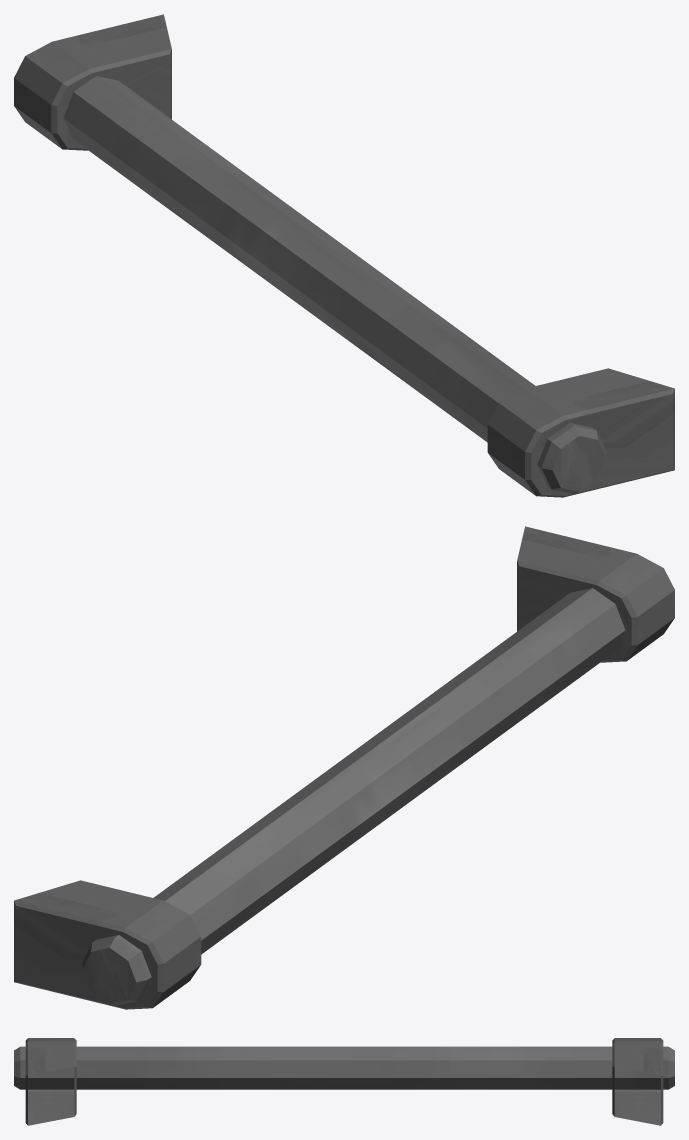
File: strProp_41.glb
3 views of the same model, one above another, from view 1: azimuth 30°, elevation 25°; view 2: azimuth 150°, elevation 25°; view 3: azimuth 270°, elevation 25° (orthographic). The views are drawn at different scales.
Parts seen in each view (by area): view 1: geometry_0; view 2: geometry_0; view 3: geometry_0.
Boxes of the visible parts, x1,y1,x2,y2 form: geometry_0: (14, 14, 674, 497); geometry_0: (14, 526, 674, 1009); geometry_0: (14, 1038, 674, 1125).
Size of the model in its own units: 0.0681 by 0.0355 by 0.4203.
1 material, 1 textured.
